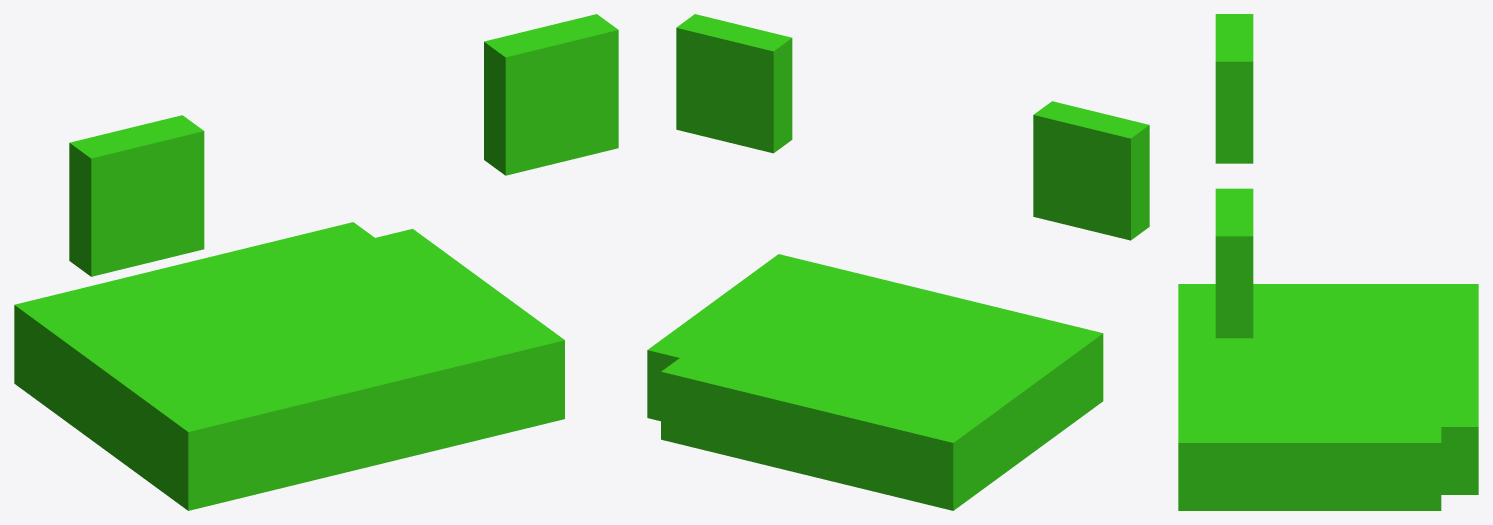
The model's file is Anubis_75-4.obj.
3 views of the same model, side by side, from view 1: azimuth 30°, elevation 25°; view 2: azimuth 150°, elevation 25°; view 3: azimuth 270°, elevation 25° (orthographic). The views are drawn at different scales.
Bounding box in the file's own units: 1.4 × 0.9 × 0.8.
Materials: 1 (1 with a texture image).
